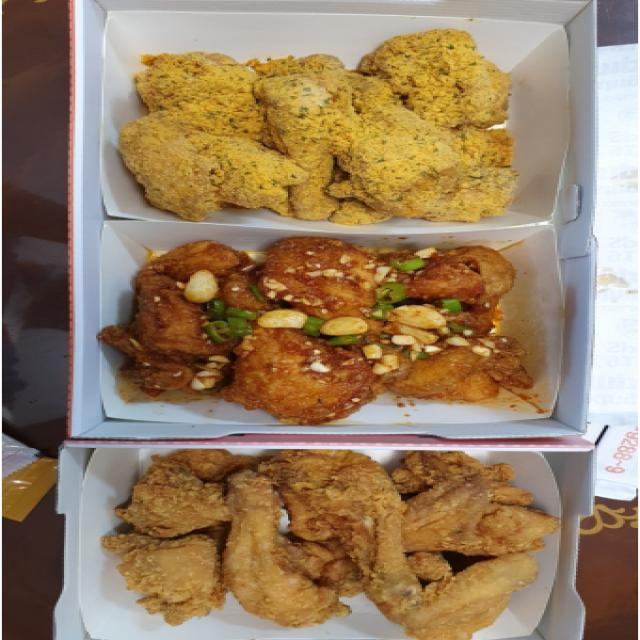Frango: (124, 446, 564, 627), (126, 240, 541, 422)
